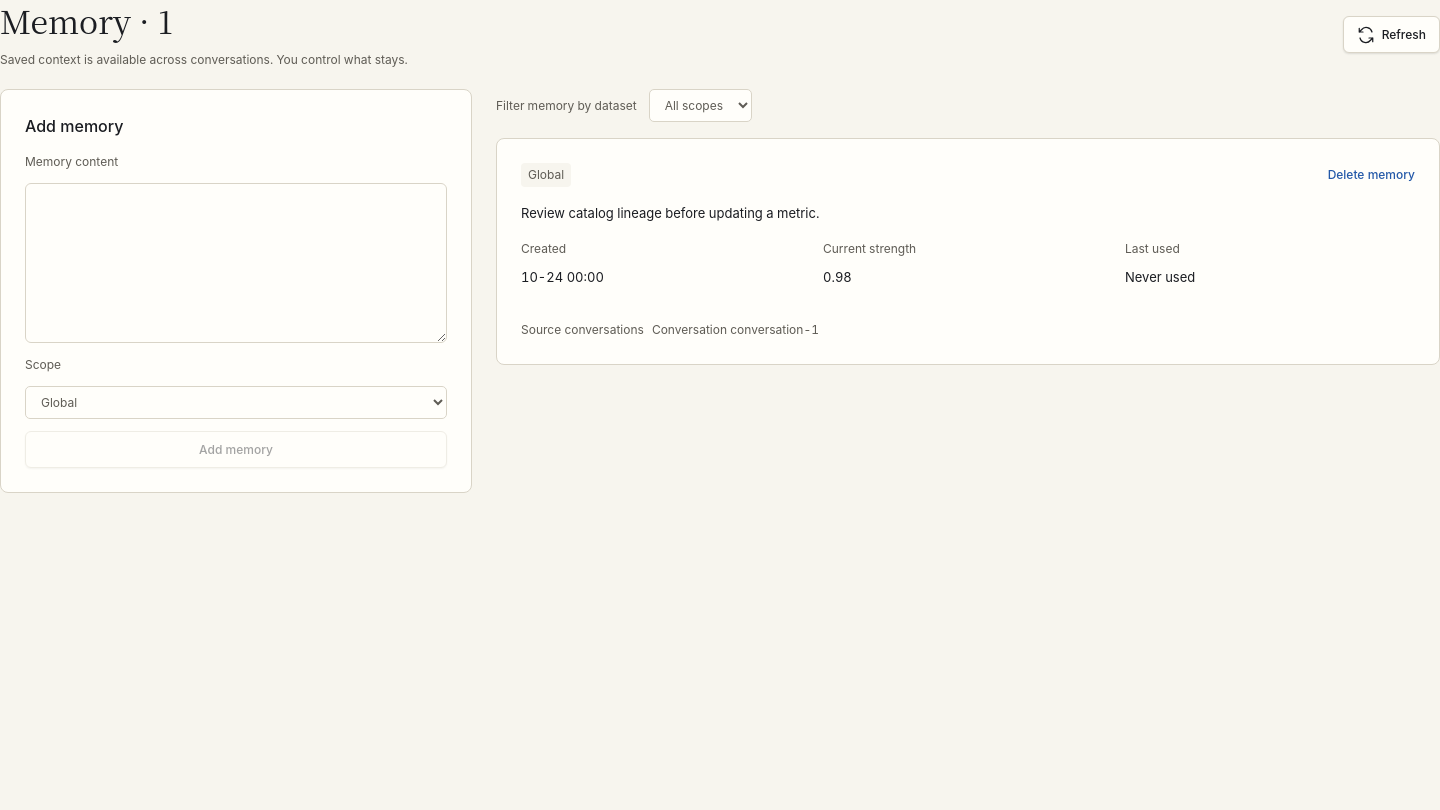
Test: keeps a failed deletion visible and reports the API error
The image size is (1440, 810).
Click the button "Delete memory": click(1371, 175) [1328,165,1415,184]
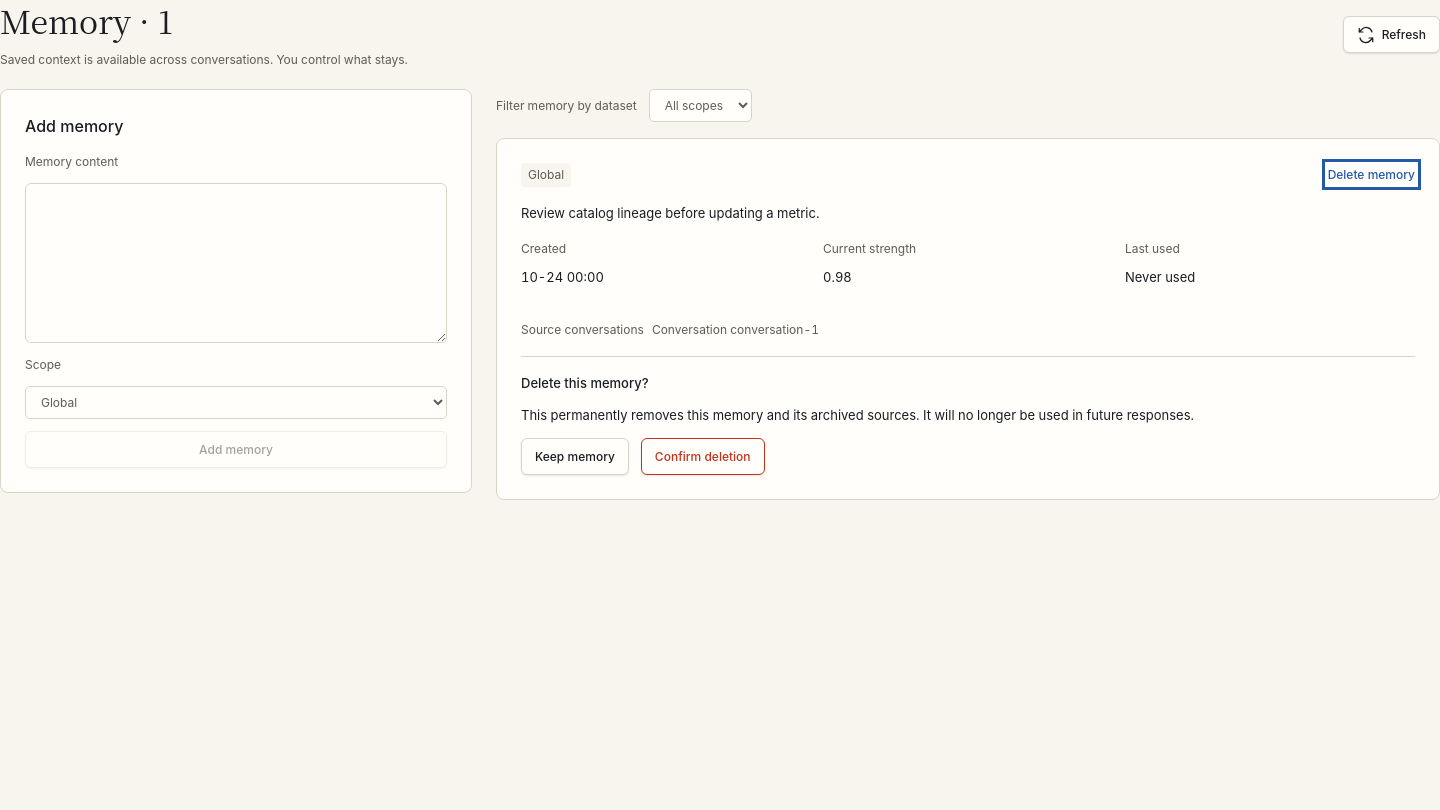
Click the button "Confirm deletion": click(703, 457) [641,438,765,475]
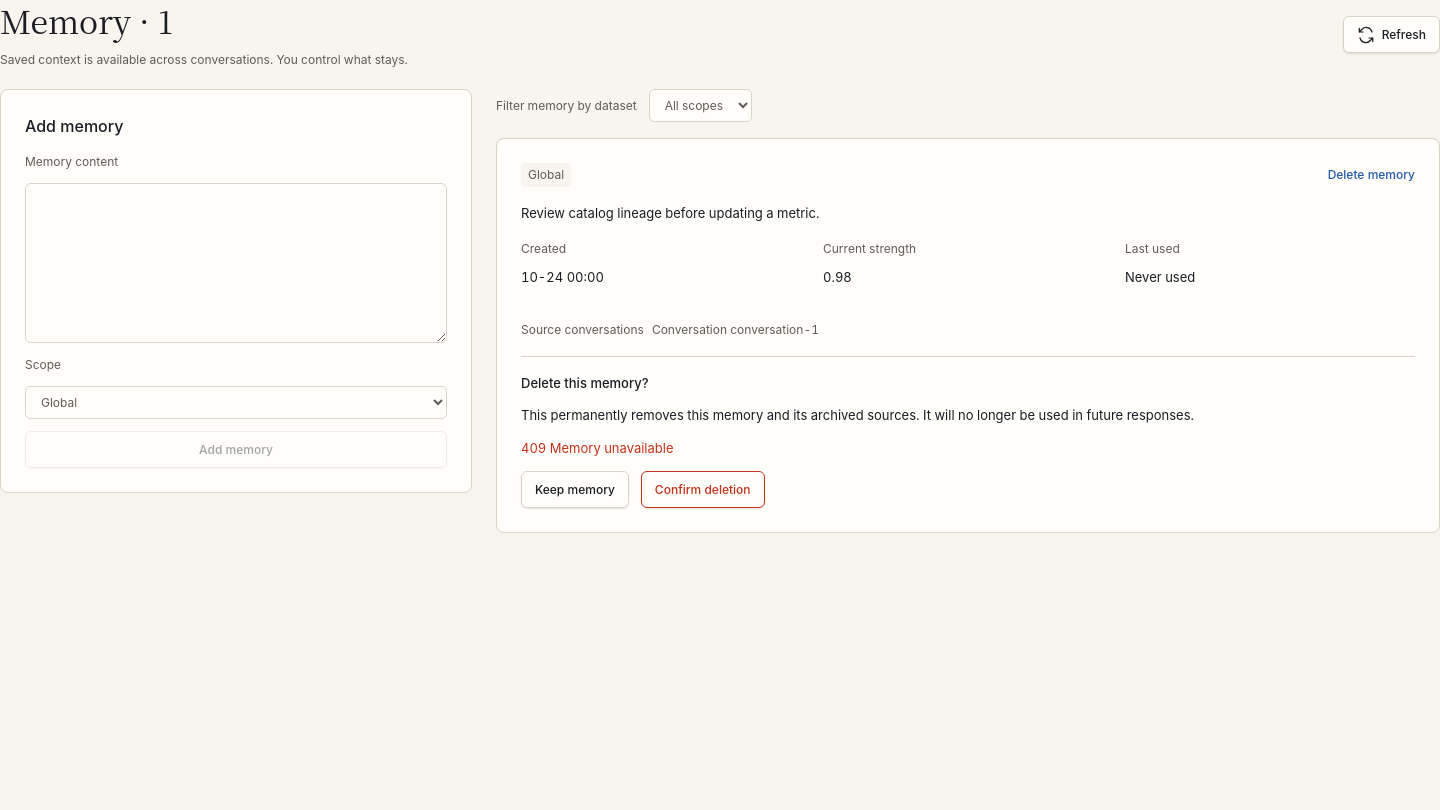
Expected: the text "Review catalog lineage before updating a metric." is shown, [521,205,819,221]
Expected: the message reads "409 Memory unavailable", [521,440,674,456]
